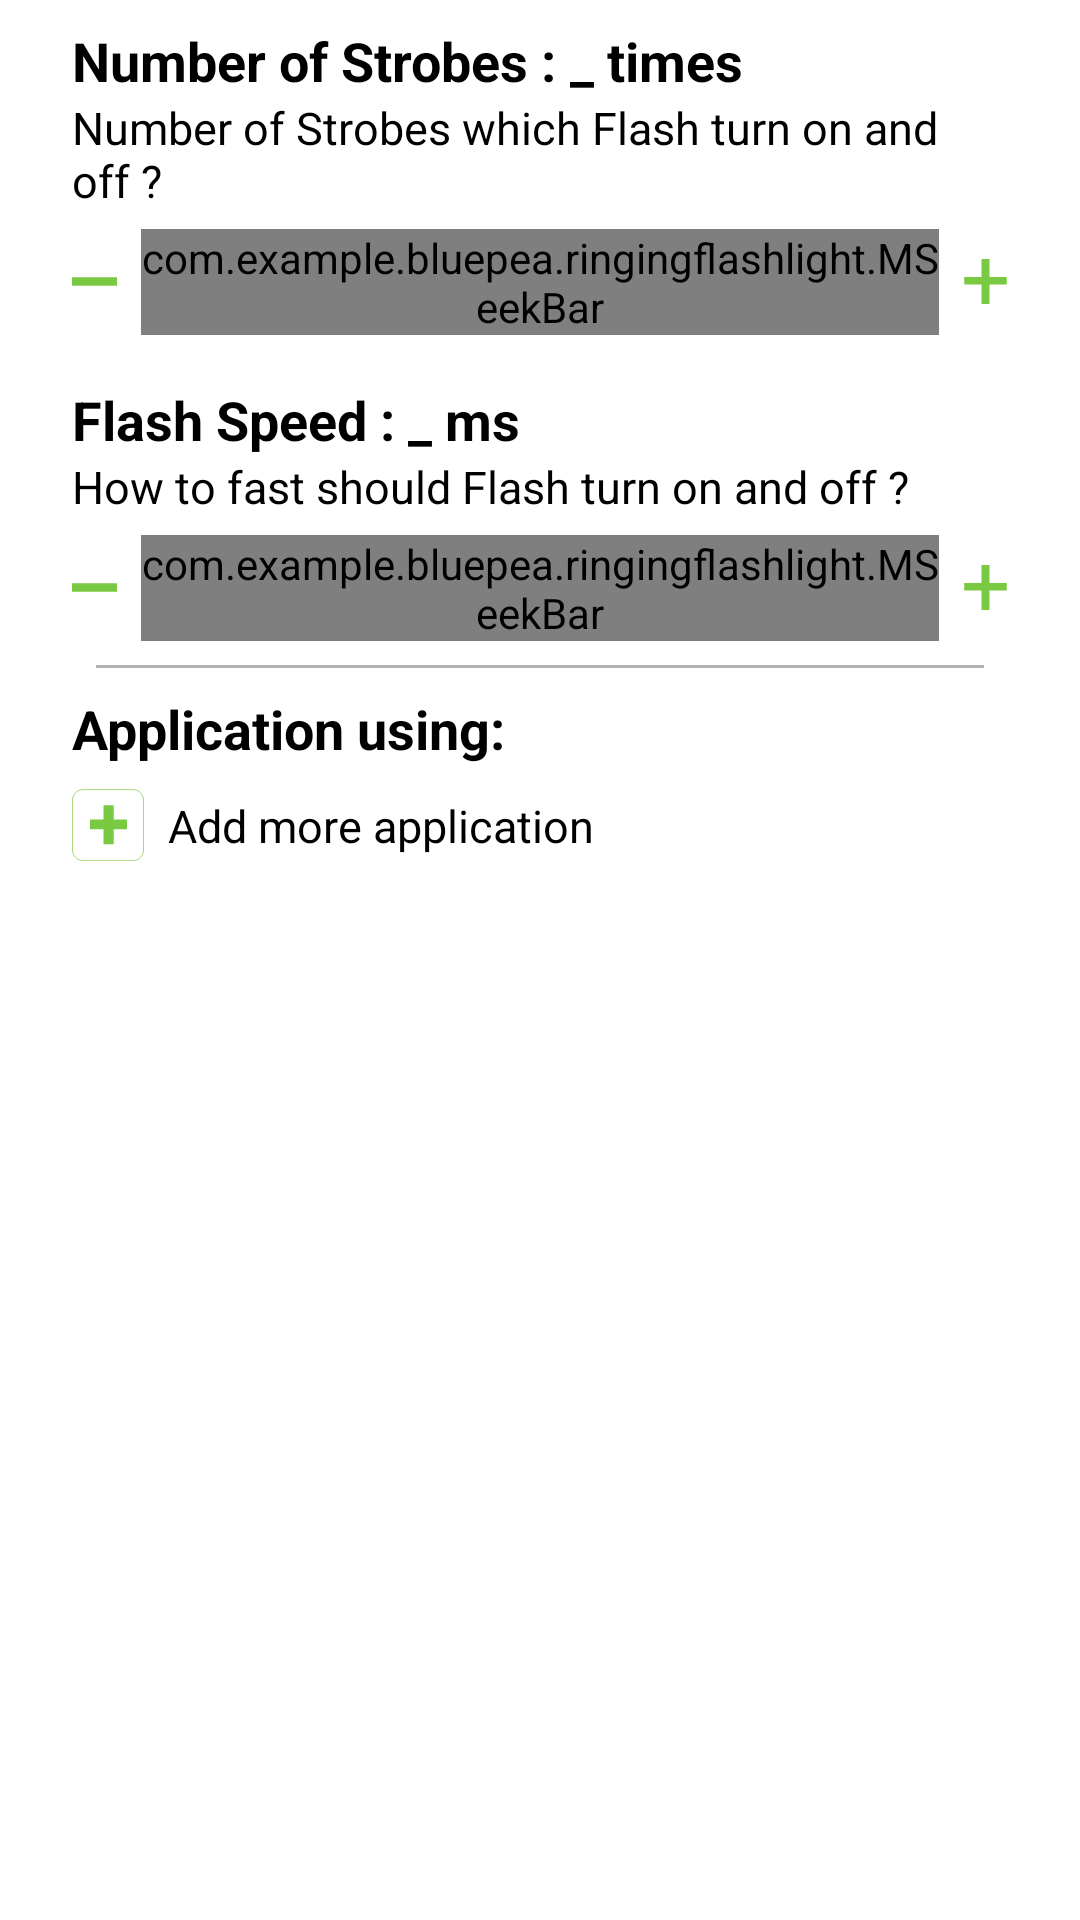

Named icons in this screenshot (1080px×1920px) and their centers, (x,y):
add app: (108,825)
minus: (94,281), (94,587)
plus: (985,281), (985,587)
